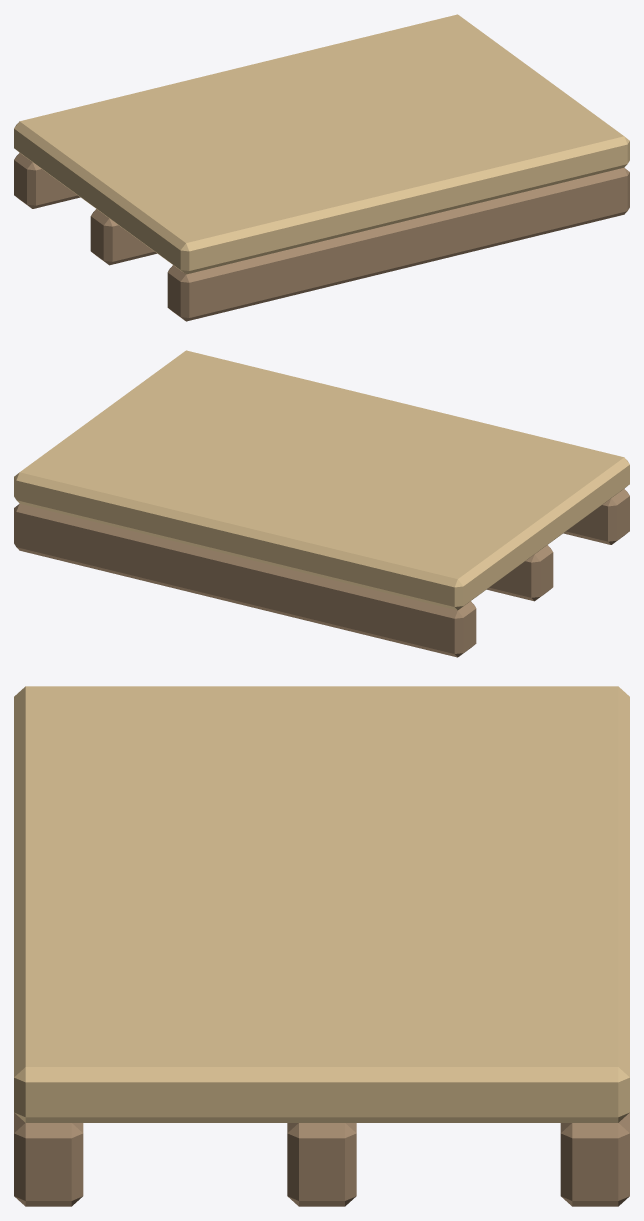
3 views of the same model, one above another, from view 1: azimuth 30°, elevation 25°; view 2: azimuth 150°, elevation 25°; view 3: azimuth 270°, elevation 25° (orthographic). The views are drawn at different scales.
Parts seen in each view (by area): view 1: 面板, 纵梁; view 2: 面板, 纵梁; view 3: 面板, 纵梁.
Part boxes in pixels (x1=…): 面板: x1=14, y1=14, x2=629, y2=274; 纵梁: x1=14, y1=153, x2=629, y2=321; 面板: x1=14, y1=350, x2=629, y2=610; 纵梁: x1=14, y1=489, x2=629, y2=657; 面板: x1=14, y1=686, x2=629, y2=1122; 纵梁: x1=14, y1=1113, x2=629, y2=1206.
Size of the model in its own units: 120 by 20 by 80.
